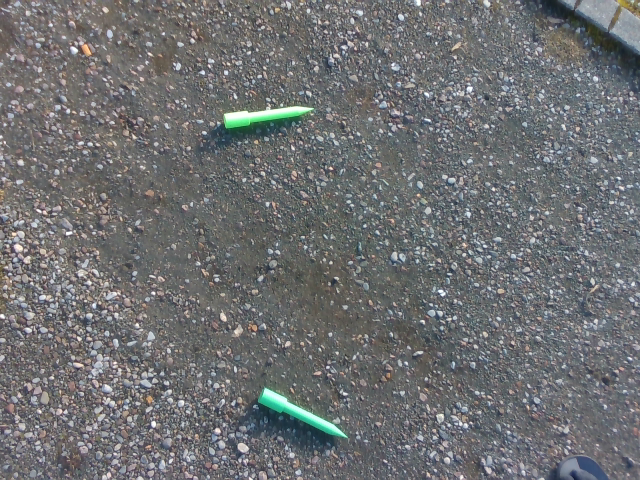Probe: (255, 382, 354, 446), (219, 101, 319, 135)
